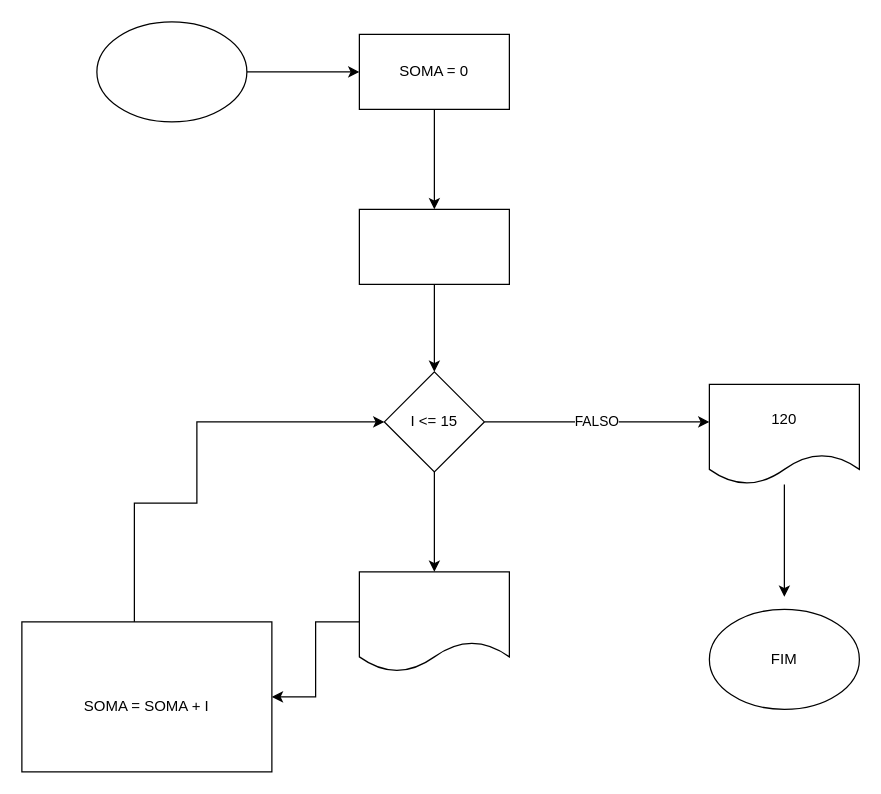
Some shapes in this 881 by 794 pixel diagram are drawn without their labels. Each missing label, with the centre of its shape:
"I = 1" goes at (x=433, y=246).
"INICÍO" goes at (x=171, y=71).
"SOMA I" goes at (x=433, y=621).
